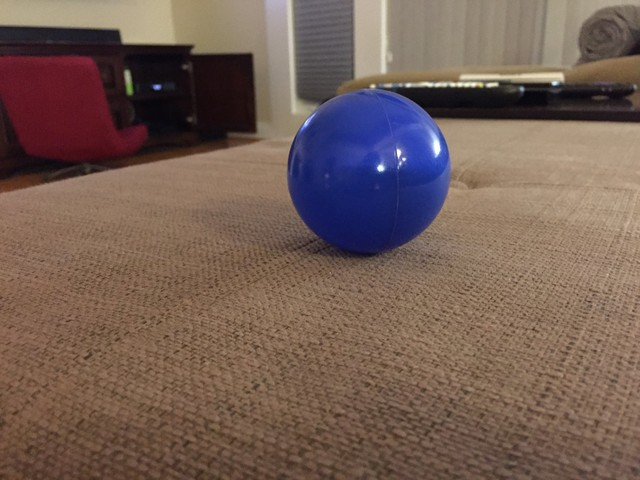Ball: (286, 89, 450, 257)
